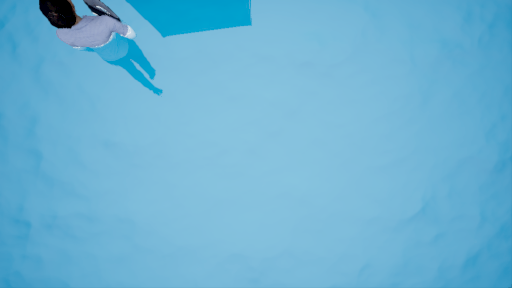person: (40, 1, 166, 97)
